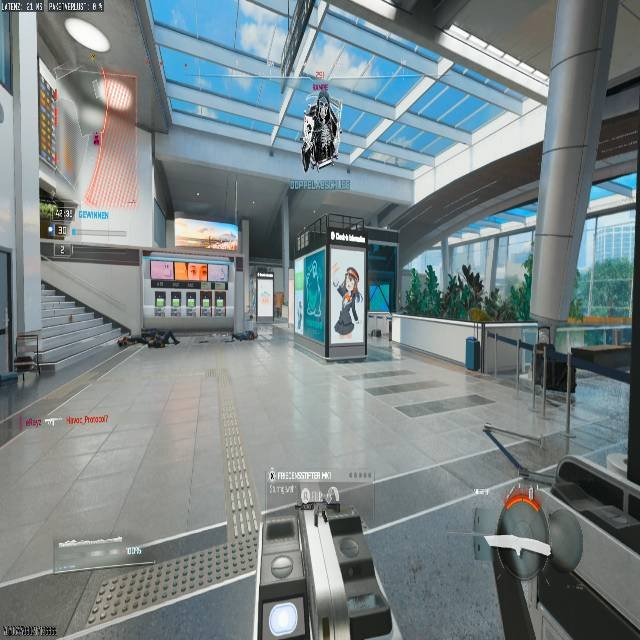player: (299, 94, 340, 169), (444, 263, 486, 322), (406, 266, 442, 316), (337, 266, 361, 334)
